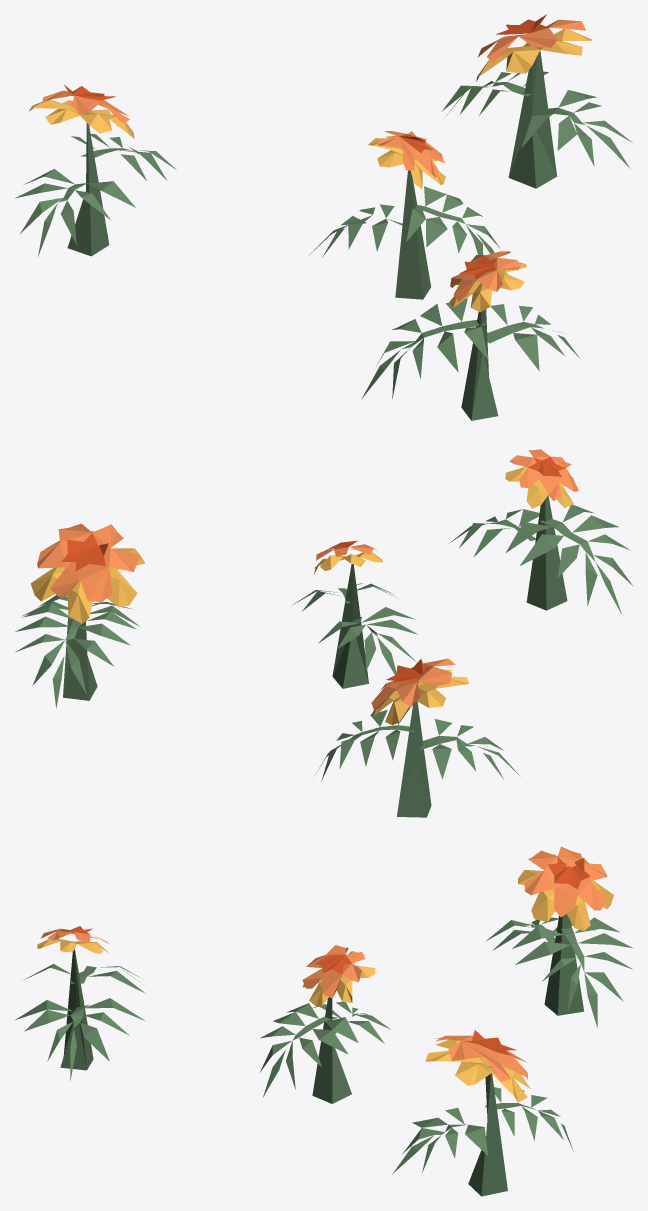
File: flower.gltf
The picture shows the model from 3 angles, top to bottom: view 1: azimuth 30°, elevation 25°; view 2: azimuth 150°, elevation 25°; view 3: azimuth 270°, elevation 25°; orthographic projection. The views are drawn at different scales.
Size of the model in its own units: 175 by 49 by 187.
1 material, 1 textured.
